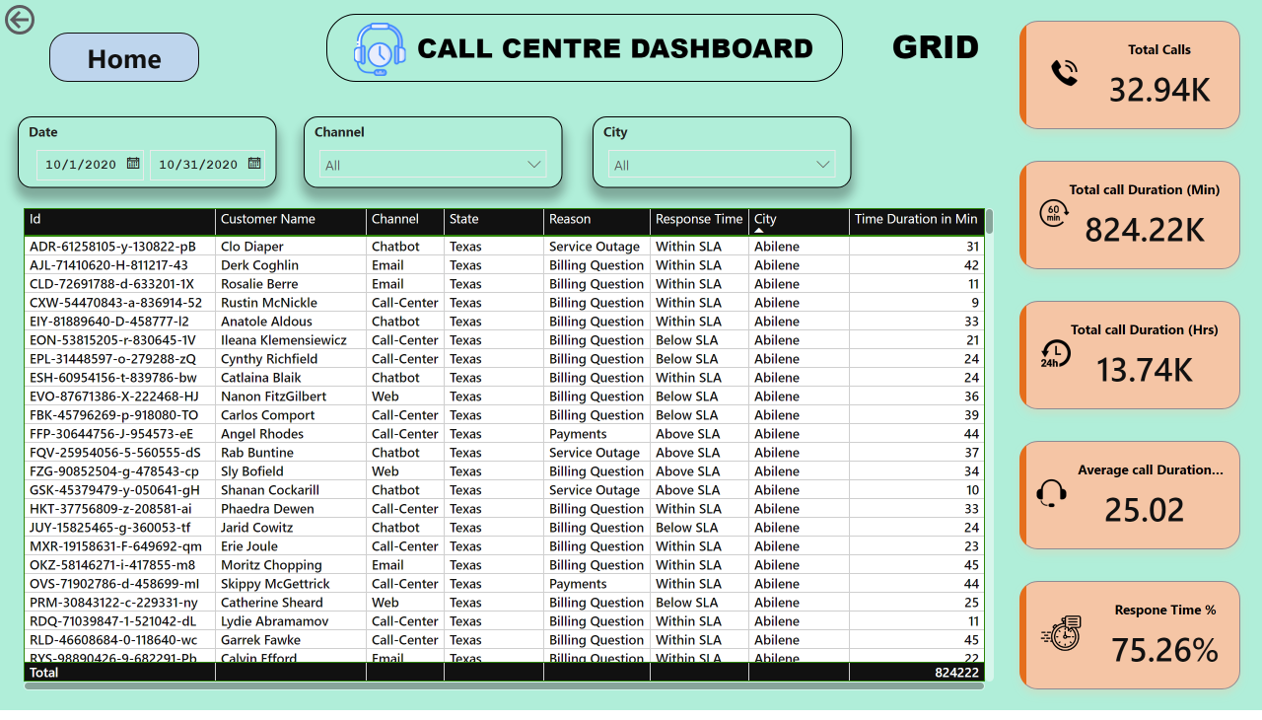

Layout of this report page (visuals, bound fields, positions):
{"tool":"powerbi","page":{"name":"Grid","canvas":[1280,720],"ordinal":1},"visuals":[{"type":"actionButton","box":[0,0,100,40],"z":0},{"type":"cardVisual","fields":{"Data":["Call Center_Call Center.Total Calls","Call Center_Call Center.Total call Duration in Min","Call Center_Call Center.Total call Duration in Hrs","Call Center_Call Center.Average call Duration in Min","Call Center_Call Center.Respone Time %"]},"box":[1013.1,0,266.5,720],"z":1000},{"type":"textbox","box":[885.2,19.3,127.8,62.7],"z":2000},{"type":"pageNavigator","title":"HOME","box":[50,32.5,152.5,50],"z":3000},{"type":"slicer","title":"Channel","fields":{"Values":["Call Center_Call Center.Channel"]},"box":[307.5,117.5,262.5,72.5],"z":4000},{"type":"slicer","title":"City","fields":{"Values":["Call Center_Call Center.City"]},"box":[601.2,117.5,262.5,72.5],"z":5000},{"type":"slicer","title":"Date","fields":{"Values":["Date Table.Date"]},"box":[17.5,117.5,262.5,72.5],"z":6000},{"type":"tableEx","fields":{"Values":["Call Center_Call Center.Id","Call Center_Call Center.Customer Name","Call Center_Call Center.Channel","Call Center_Call Center.State","Call Center_Call Center.Reason","Call Center_Call Center.Response Time","Call Center_Call Center.City","Call Center_Call Center.Total call Duration in Min"]},"box":[17.5,206.2,995,498.8],"z":7000},{"type":"textbox","box":[331.2,13.8,523.8,68.8],"z":8000},{"type":"image","box":[353.8,17.5,62.5,63.8],"z":9000}]}

Visuals, with their boxes in screenshot pixels (x1, y1, x2, y2), scaled from the page's 1280x720 canvas onto the 1262x720 screenshot:
actionButton: (x1=0, y1=0, x2=99, y2=40)
cardVisual - Call Center_Call Center.Total Calls x Call Center_Call Center.Total call Duration in Min: (x1=999, y1=0, x2=1261, y2=719)
textbox: (x1=873, y1=19, x2=999, y2=82)
"HOME" pageNavigator: (x1=49, y1=32, x2=200, y2=82)
"Channel" slicer: (x1=303, y1=118, x2=562, y2=190)
"City" slicer: (x1=593, y1=118, x2=852, y2=190)
"Date" slicer: (x1=17, y1=118, x2=276, y2=190)
tableEx - Call Center_Call Center.Id x Call Center_Call Center.Customer Name: (x1=17, y1=206, x2=998, y2=705)
textbox: (x1=327, y1=14, x2=843, y2=83)
image: (x1=349, y1=18, x2=410, y2=81)
